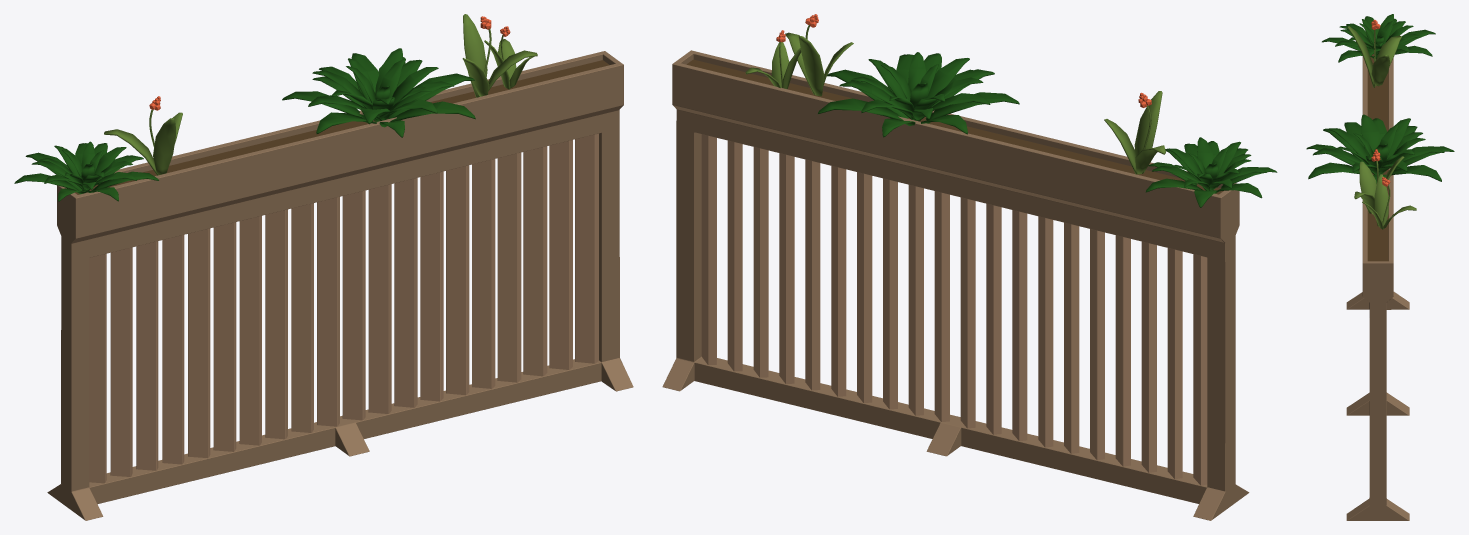
File: divider_long.glb
3 views of the same model, side by side, from view 1: azimuth 30°, elevation 25°; view 2: azimuth 150°, elevation 25°; view 3: azimuth 270°, elevation 25° (orthographic). The views are drawn at different scales.
Visible parts, largest first — view 1: DividerLongPanels, DividerLongFrame, DividerLongPlant5, DividerLongPlant1, DividerLongSoil, DividerLongPlant6, DividerLongPlant2, DividerLongPlant7; view 2: DividerLongPanels, DividerLongFrame, DividerLongPlant5, DividerLongPlant1, DividerLongSoil, DividerLongPlant2, DividerLongPlant6, DividerLongPlant7; view 3: DividerLongFrame, DividerLongPlant5, DividerLongPlant1, DividerLongSoil, DividerLongPlant2, DividerLongPlant6, DividerLongPlant7.
Part boxes in pixels (x1,y1,x2,y2): DividerLongPanels: (89, 133, 598, 483); DividerLongFrame: (47, 51, 633, 520); DividerLongPlant5: (282, 48, 475, 137); DividerLongPlant1: (14, 141, 158, 201); DividerLongSoil: (75, 60, 609, 194); DividerLongPlant6: (462, 14, 537, 97); DividerLongPlant2: (104, 96, 182, 175); DividerLongPlant7: (484, 26, 533, 89); DividerLongPanels: (701, 134, 1207, 485); DividerLongFrame: (662, 50, 1249, 520); DividerLongPlant5: (818, 52, 1019, 137); DividerLongPlant1: (1145, 137, 1277, 207); DividerLongSoil: (686, 59, 1223, 194); DividerLongPlant2: (1104, 91, 1165, 174); DividerLongPlant6: (785, 14, 853, 96); DividerLongPlant7: (745, 30, 800, 88); DividerLongFrame: (1346, 56, 1409, 520); DividerLongPlant5: (1306, 114, 1454, 182); DividerLongPlant1: (1322, 14, 1435, 62); DividerLongSoil: (1367, 54, 1388, 261); DividerLongPlant2: (1347, 20, 1402, 87); DividerLongPlant6: (1354, 149, 1404, 214); DividerLongPlant7: (1362, 174, 1416, 229).
Bounding box in the file's own units: 3.93 × 2.48 × 1.05.
